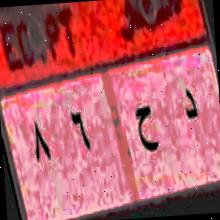6: (69, 103, 94, 165)
7aa: (130, 97, 162, 164)
8: (26, 116, 54, 172)
daal: (178, 82, 203, 134)
